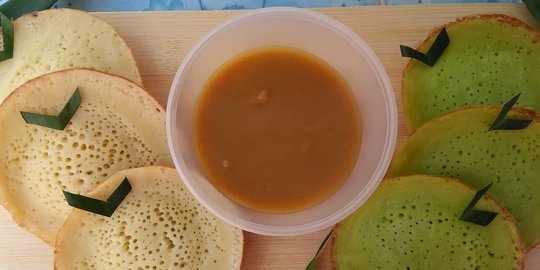srabi: (7, 71, 186, 241)
